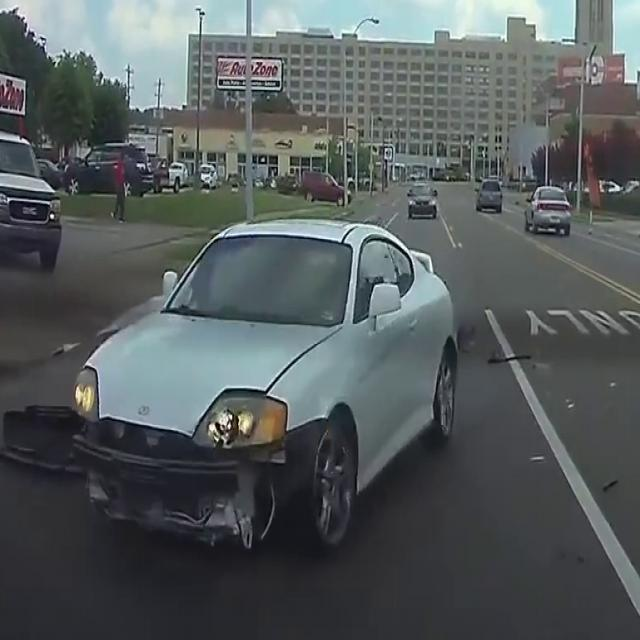accident: (66, 219, 451, 556)
